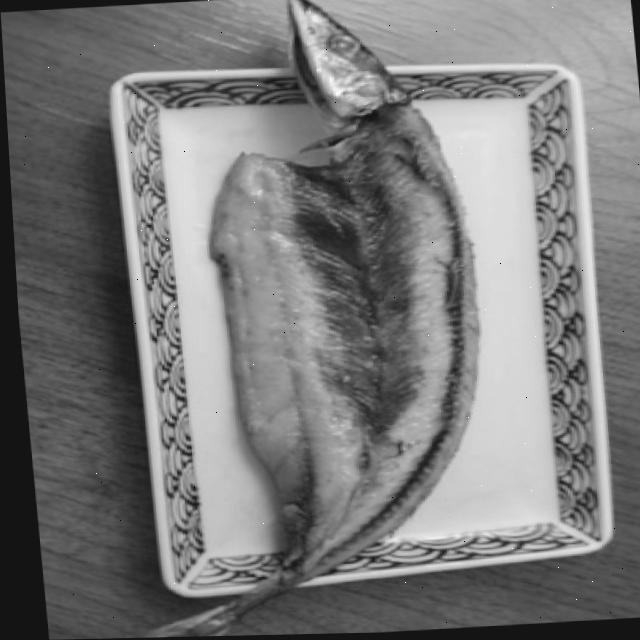熟制海鲜: (45, 0, 499, 639)
